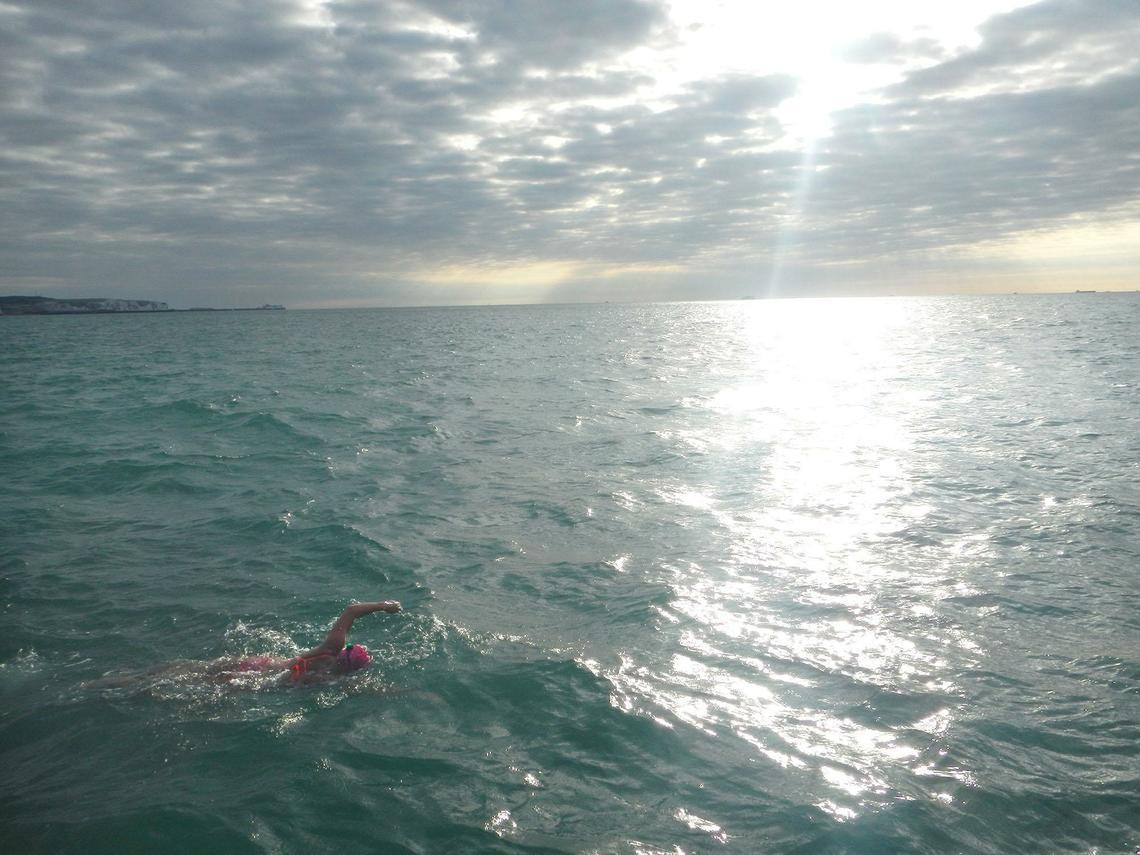human: (238, 590, 396, 685)
